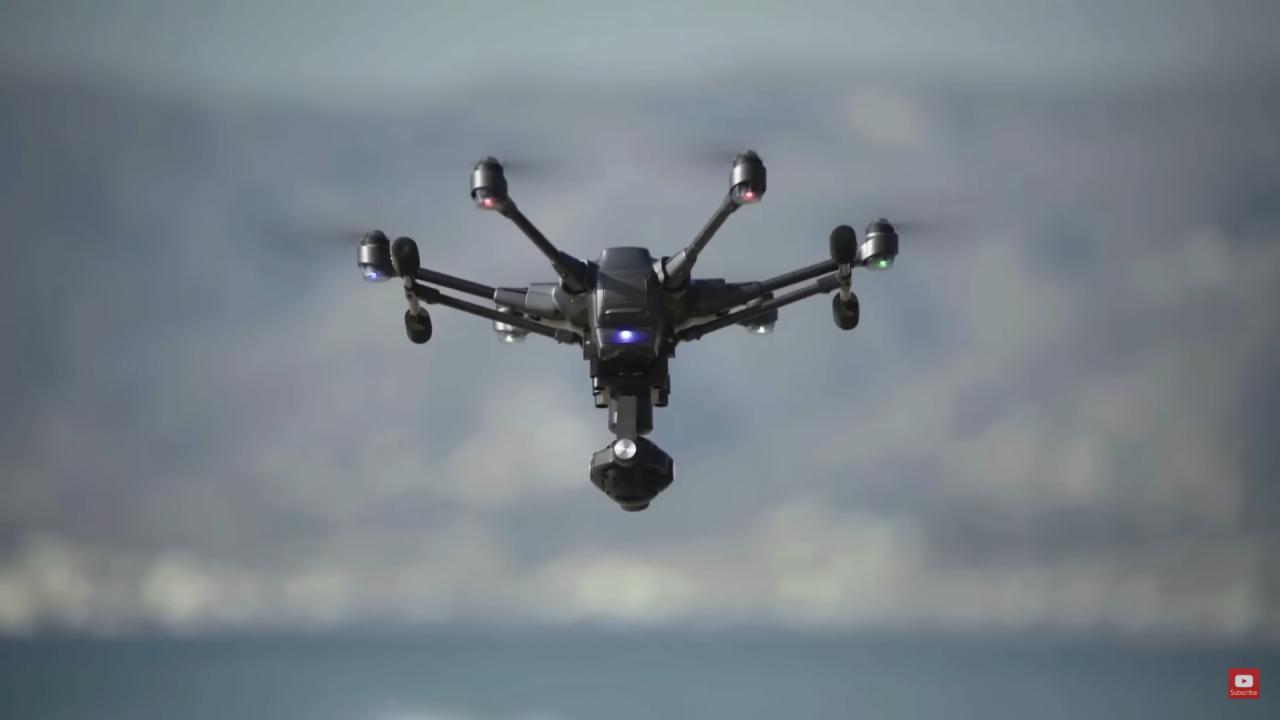Drone: (261, 118, 983, 537)
